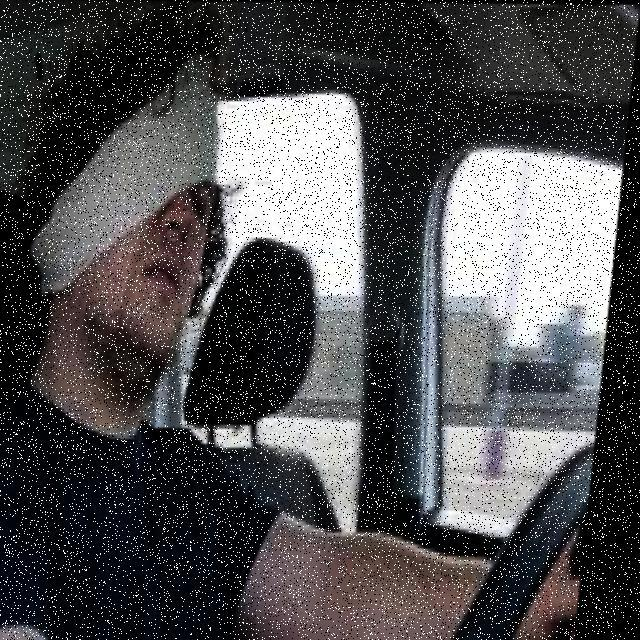noSeatbelt: (0, 320, 295, 640)
